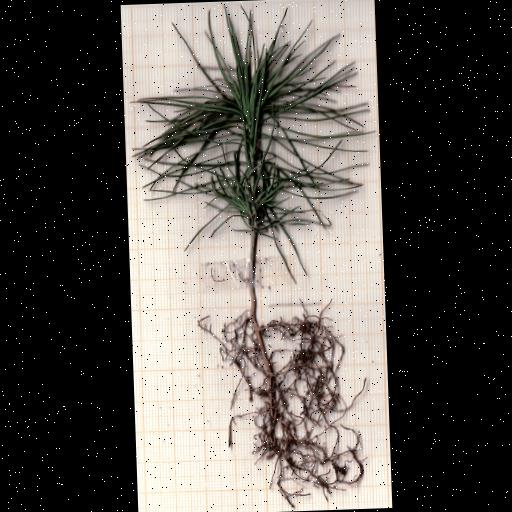flowerCedr: (135, 6, 367, 281)
rootCedr: (198, 311, 365, 505)
stemCedr: (245, 231, 258, 325)
